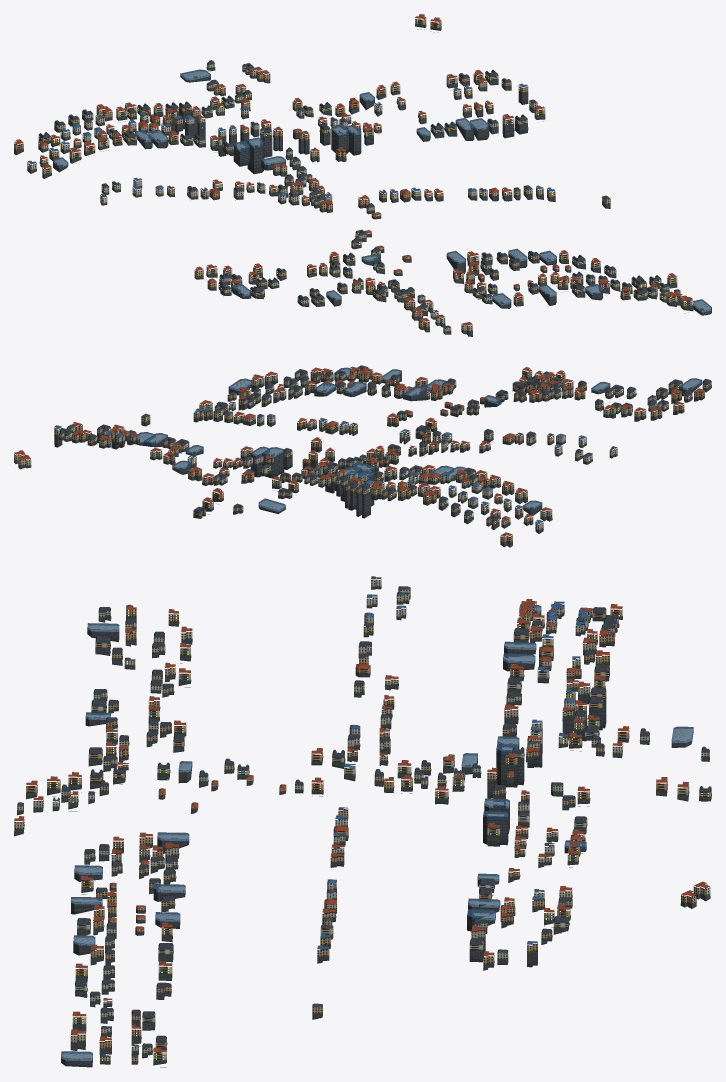
File: osm_buildings_T_W02_S02_Q3.glb
The picture shows the model from 3 angles, top to bottom: view 1: azimuth 30°, elevation 25°; view 2: azimuth 150°, elevation 25°; view 3: azimuth 270°, elevation 25°; orthographic projection. The views are drawn at different scales.
Parts seen in each view (by area): view 1: OSM_T_W02_S02_Q3_foundation, OSM_T_W02_S02_Q3_wall_french_ochre, OSM_T_W02_S02_Q3_wall_cream_stucco, OSM_T_W02_S02_Q3_roof_terracotta, OSM_T_W02_S02_Q3_roof_mansard_slate, OSM_T_W02_S02_Q3_greenhouse_blend, OSM_T_W02_S02_Q3_roof_mansard_deck, OSM_T_W02_S02_Q3_wall_warm_white, OSM_T_W02_S02_Q3_roof_mint_metal, OSM_T_W02_S02_Q3_balcony_railing, OSM_T_W02_S02_Q3_trim_cornice, OSM_T_W02_S02_Q3_roof_alpine_blue (+2 smaller); view 2: OSM_T_W02_S02_Q3_foundation, OSM_T_W02_S02_Q3_wall_french_ochre, OSM_T_W02_S02_Q3_wall_cream_stucco, OSM_T_W02_S02_Q3_roof_terracotta, OSM_T_W02_S02_Q3_roof_mansard_slate, OSM_T_W02_S02_Q3_greenhouse_blend, OSM_T_W02_S02_Q3_roof_mansard_deck, OSM_T_W02_S02_Q3_wall_warm_white, OSM_T_W02_S02_Q3_roof_mint_metal, OSM_T_W02_S02_Q3_roof_alpine_blue, OSM_T_W02_S02_Q3_wall_pastel_sand, OSM_T_W02_S02_Q3_window_emissive_warm (+2 smaller); view 3: OSM_T_W02_S02_Q3_foundation, OSM_T_W02_S02_Q3_wall_french_ochre, OSM_T_W02_S02_Q3_wall_cream_stucco, OSM_T_W02_S02_Q3_roof_terracotta, OSM_T_W02_S02_Q3_roof_mansard_slate, OSM_T_W02_S02_Q3_greenhouse_blend, OSM_T_W02_S02_Q3_roof_mansard_deck, OSM_T_W02_S02_Q3_trim_cornice, OSM_T_W02_S02_Q3_wall_warm_white, OSM_T_W02_S02_Q3_roof_mint_metal, OSM_T_W02_S02_Q3_roof_alpine_blue, OSM_T_W02_S02_Q3_balcony_railing (+2 smaller).
Part boxes in pixels (x1,y1,x2,y2): OSM_T_W02_S02_Q3_foundation: [14, 24, 711, 336]; OSM_T_W02_S02_Q3_wall_french_ochre: [14, 19, 687, 327]; OSM_T_W02_S02_Q3_wall_cream_stucco: [40, 16, 693, 331]; OSM_T_W02_S02_Q3_roof_terracotta: [14, 14, 692, 325]; OSM_T_W02_S02_Q3_roof_mansard_slate: [39, 60, 692, 328]; OSM_T_W02_S02_Q3_greenhouse_blend: [53, 69, 711, 312]; OSM_T_W02_S02_Q3_roof_mansard_deck: [40, 60, 711, 311]; OSM_T_W02_S02_Q3_wall_warm_white: [27, 103, 668, 317]; OSM_T_W02_S02_Q3_roof_mint_metal: [14, 24, 692, 334]; OSM_T_W02_S02_Q3_balcony_railing: [38, 20, 691, 325]; OSM_T_W02_S02_Q3_trim_cornice: [15, 29, 691, 329]; OSM_T_W02_S02_Q3_roof_alpine_blue: [28, 83, 554, 196]; OSM_T_W02_S02_Q3_foundation: [14, 372, 711, 547]; OSM_T_W02_S02_Q3_wall_french_ochre: [14, 368, 704, 542]; OSM_T_W02_S02_Q3_wall_cream_stucco: [18, 369, 711, 522]; OSM_T_W02_S02_Q3_roof_terracotta: [14, 366, 704, 536]; OSM_T_W02_S02_Q3_roof_mansard_slate: [59, 367, 711, 521]; OSM_T_W02_S02_Q3_greenhouse_blend: [133, 367, 702, 511]; OSM_T_W02_S02_Q3_roof_mansard_deck: [60, 365, 709, 519]; OSM_T_W02_S02_Q3_wall_warm_white: [187, 379, 592, 529]; OSM_T_W02_S02_Q3_roof_mint_metal: [14, 375, 711, 545]; OSM_T_W02_S02_Q3_roof_alpine_blue: [54, 407, 586, 523]; OSM_T_W02_S02_Q3_wall_pastel_sand: [257, 381, 656, 505]; OSM_T_W02_S02_Q3_window_emissive_warm: [58, 371, 707, 526]; OSM_T_W02_S02_Q3_foundation: [14, 586, 711, 1067]; OSM_T_W02_S02_Q3_wall_french_ochre: [26, 606, 711, 1061]; OSM_T_W02_S02_Q3_wall_cream_stucco: [14, 594, 710, 1060]; OSM_T_W02_S02_Q3_roof_terracotta: [14, 599, 709, 1052]; OSM_T_W02_S02_Q3_roof_mansard_slate: [17, 576, 711, 1057]; OSM_T_W02_S02_Q3_greenhouse_blend: [61, 604, 693, 1060]; OSM_T_W02_S02_Q3_roof_mansard_deck: [62, 607, 710, 1060]; OSM_T_W02_S02_Q3_trim_cornice: [14, 580, 710, 1067]; OSM_T_W02_S02_Q3_wall_warm_white: [52, 588, 593, 1051]; OSM_T_W02_S02_Q3_roof_mint_metal: [14, 613, 710, 1060]; OSM_T_W02_S02_Q3_roof_alpine_blue: [317, 594, 589, 949]; OSM_T_W02_S02_Q3_balcony_railing: [24, 607, 708, 1058].
Bounding box in the file's own units: 940 × 275 × 912.
16 materials, 16 textured.
